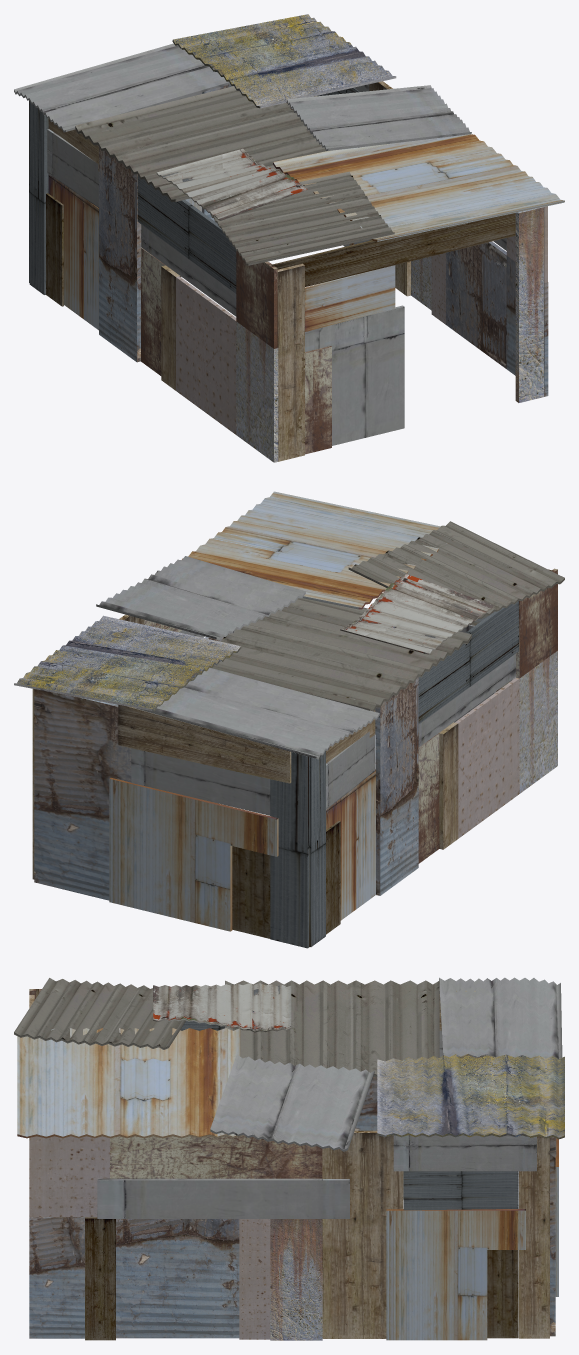
File: ShantyHouse.fbx
The picture shows the model from 3 angles, top to bottom: view 1: azimuth 30°, elevation 25°; view 2: azimuth 150°, elevation 25°; view 3: azimuth 270°, elevation 25°; orthographic projection. The views are drawn at different scales.
Parts seen in each view (by area): view 1: pCube15, pCube32, pCube33, pCube46, pCube34, pCube31, pCube16, pCube23, pCube18, pCube3, pCube44, pCube41 (+19 smaller); view 2: pCube40, pCube38, pCube15, pCube32, pCube33, pCube34, pCube16, pCube31, pCube23, pCube18, pCube36, pCube41 (+15 smaller); view 3: pCube15, pCube33, pCube9, pCube3, pCube32, pCube8, pCube16, pCube4, pCube34, pCube5, pCube31, pCube1 (+12 smaller).
Boxes of the visible parts, <box> form: pCube15: <box>273,134,564,241</box>; pCube32: <box>75,86,325,202</box>; pCube33: <box>172,14,396,108</box>; pCube46: <box>305,305,404,445</box>; pCube34: <box>14,43,229,132</box>; pCube31: <box>210,171,394,265</box>; pCube16: <box>287,85,471,150</box>; pCube23: <box>99,147,141,362</box>; pCube18: <box>176,276,236,434</box>; pCube3: <box>446,241,506,368</box>; pCube44: <box>271,213,515,286</box>; pCube41: <box>156,148,307,220</box>; pCube40: <box>109,777,278,931</box>; pCube38: <box>34,689,131,900</box>; pCube15: <box>182,491,447,609</box>; pCube32: <box>212,598,471,711</box>; pCube33: <box>14,615,241,711</box>; pCube34: <box>135,667,379,759</box>; pCube16: <box>96,556,305,640</box>; pCube31: <box>348,521,564,622</box>; pCube23: <box>375,677,418,895</box>; pCube18: <box>455,678,519,838</box>; pCube36: <box>270,752,309,948</box>; pCube41: <box>340,574,494,654</box>; pCube15: <box>17,1028,240,1138</box>; pCube33: <box>377,1054,564,1139</box>; pCube9: <box>386,1209,525,1340</box>; pCube3: <box>116,1219,239,1338</box>; pCube32: <box>225,980,439,1077</box>; pCube8: <box>322,1130,403,1338</box>; pCube16: <box>210,1054,374,1151</box>; pCube4: <box>97,1178,349,1218</box>; pCube34: <box>439,977,562,1068</box>; pCube5: <box>110,1135,322,1178</box>; pCube31: <box>14,978,185,1049</box>; pCube1: <box>29,1217,96,1338</box>.
Bounding box in the file's own units: 6.91 × 4.32 × 9.58.
